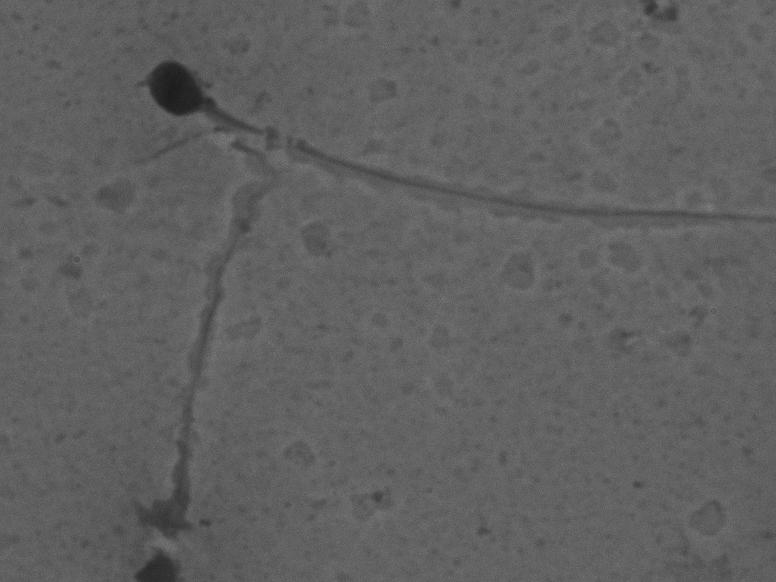Abnormal: (128, 20, 743, 253)
